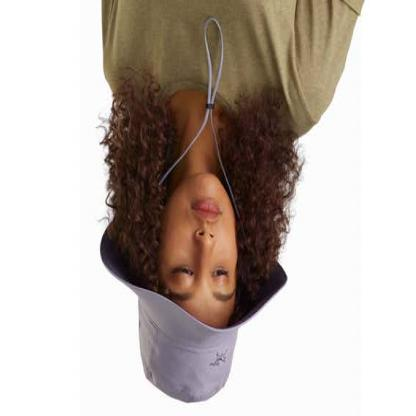hat: (98, 212, 296, 408)
